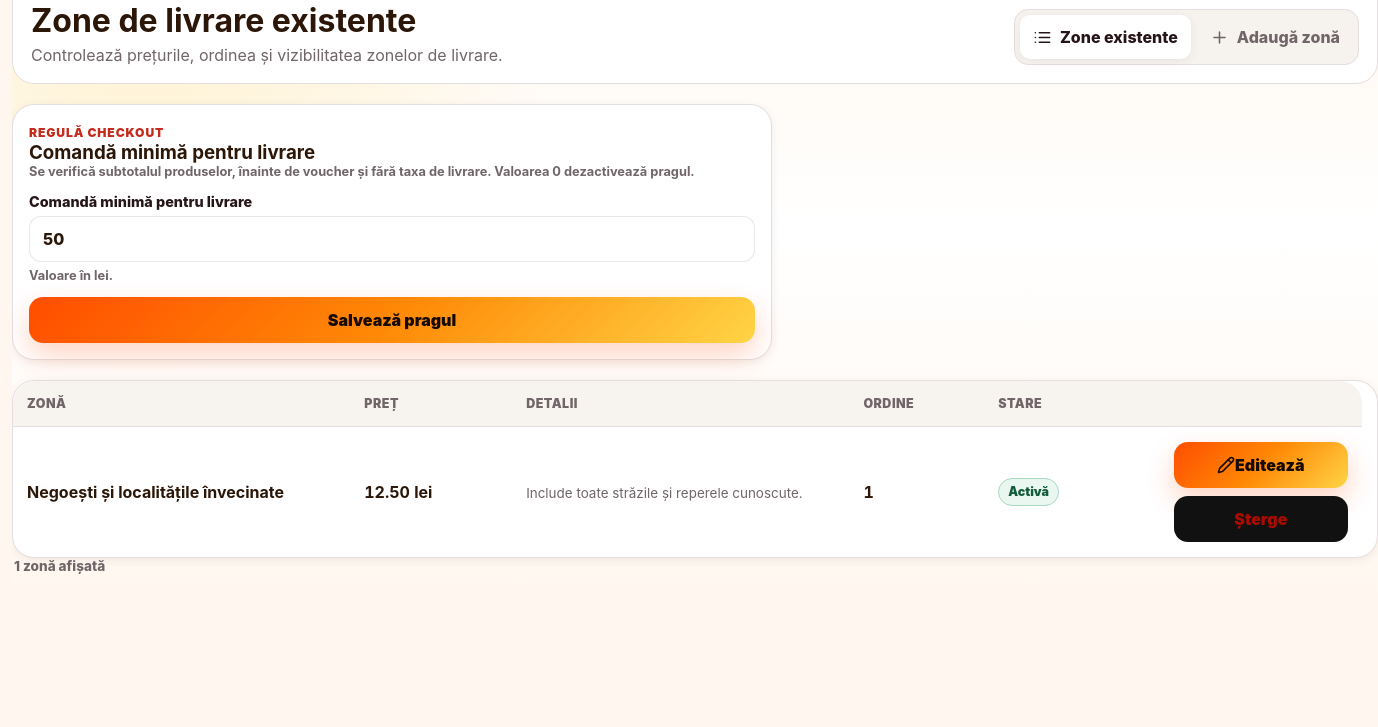
Scenario: DeliveryZonesPanel › opens the zone editor only on request
Expected: the field labelled "Numele zonei" is not shown
Click the button "Editează": (1261, 465) [1174,442,1348,488]
(page scrolled)
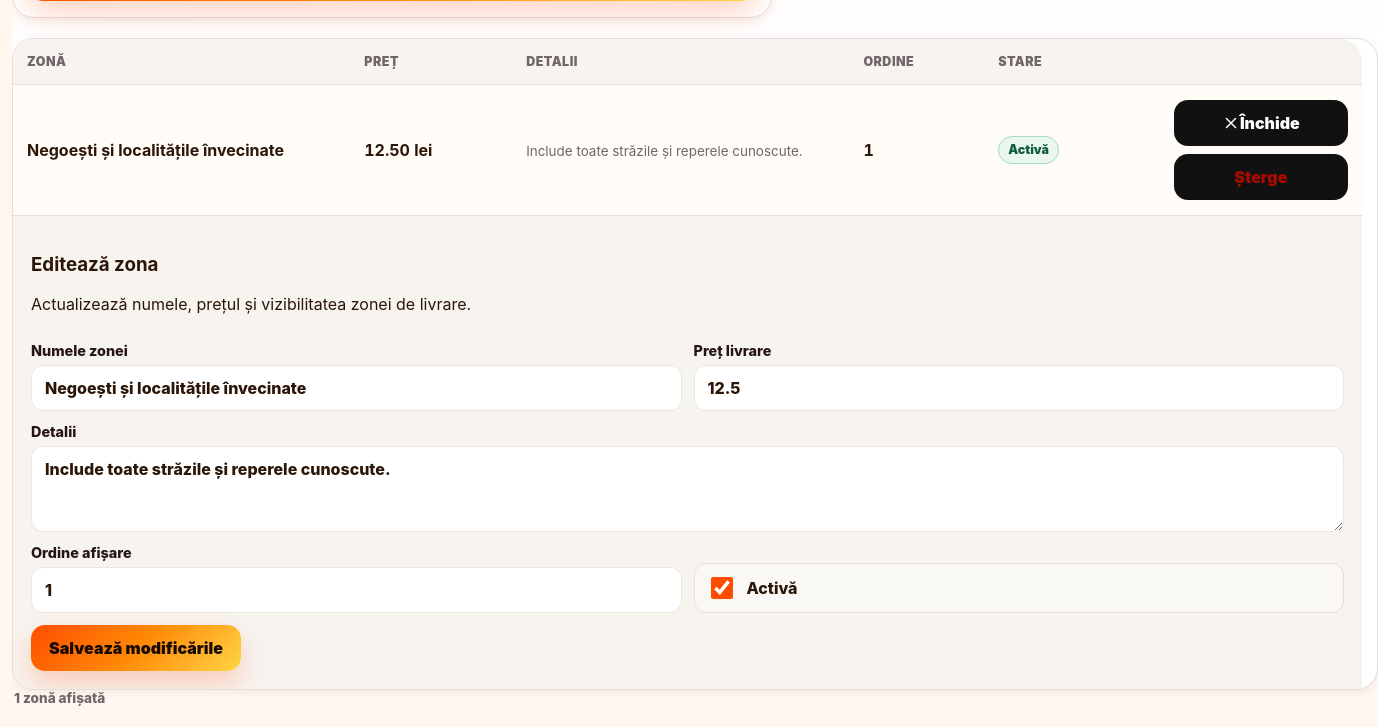
Now the heading "Editează zona" is shown, box [31,253,158,276]
Now the field labelled "Numele zonei" holds "Negoești și localitățile învecinate", box [31,365,682,411]
Now the checkbox labelled "Activă" is checked, box [710,577,732,599]
